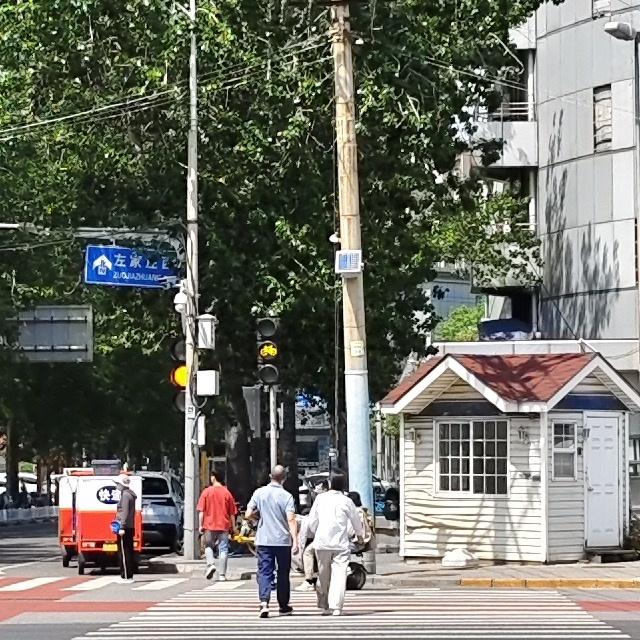curb: (371, 576, 639, 590)
